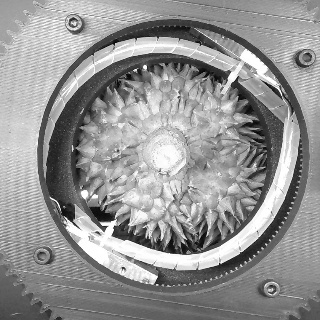base: (139, 121, 189, 163)
end: (152, 143, 181, 170)
